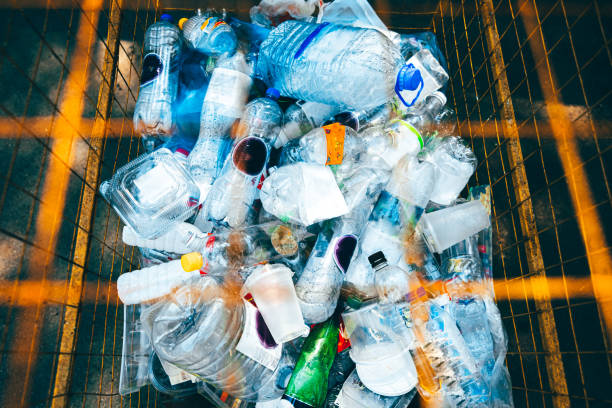plastic: (272, 13, 419, 115), (409, 287, 490, 402), (108, 146, 205, 235), (257, 265, 303, 346)
